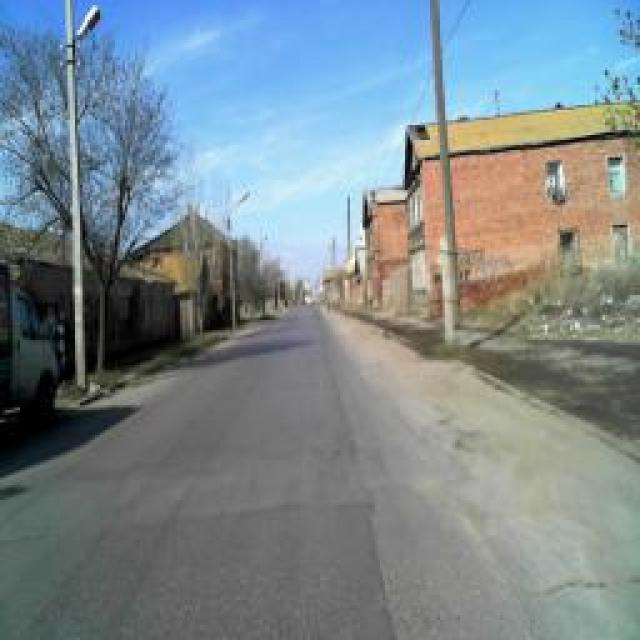sign: (345, 257, 355, 275)
